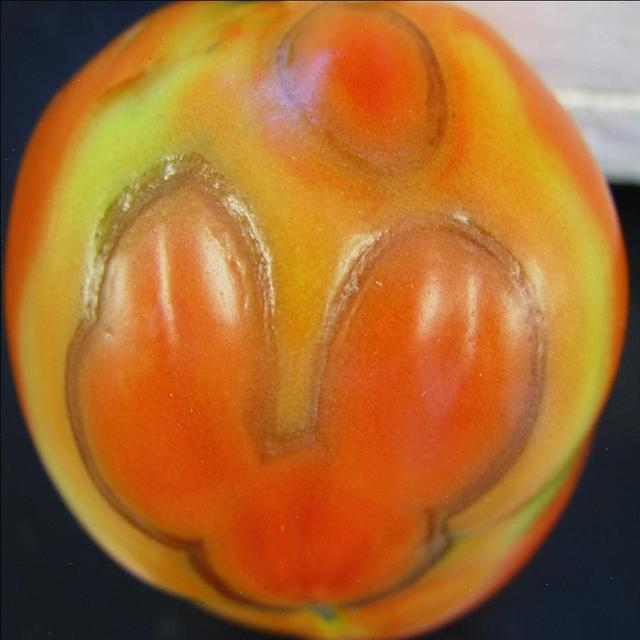Spotted wilt Virus Fruit: (1, 0, 418, 427)
